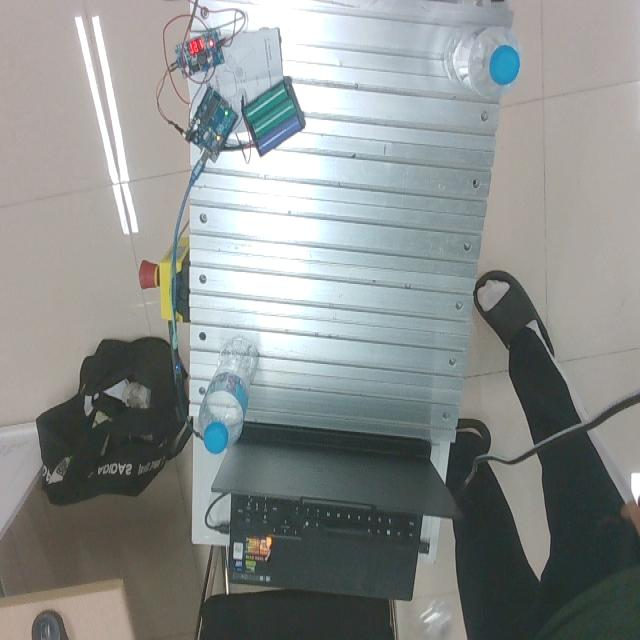lavie: (198, 336, 259, 456), (443, 25, 520, 100)
